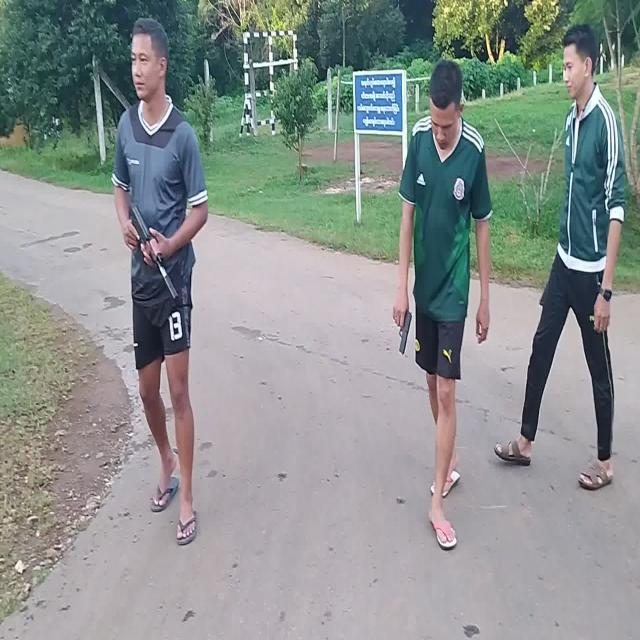gun: (131, 206, 179, 302), (399, 309, 412, 353)
